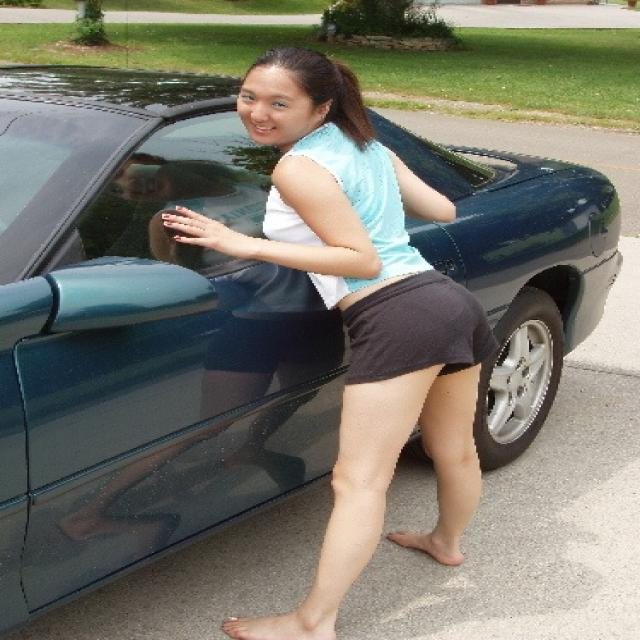car: (2, 64, 621, 639)
